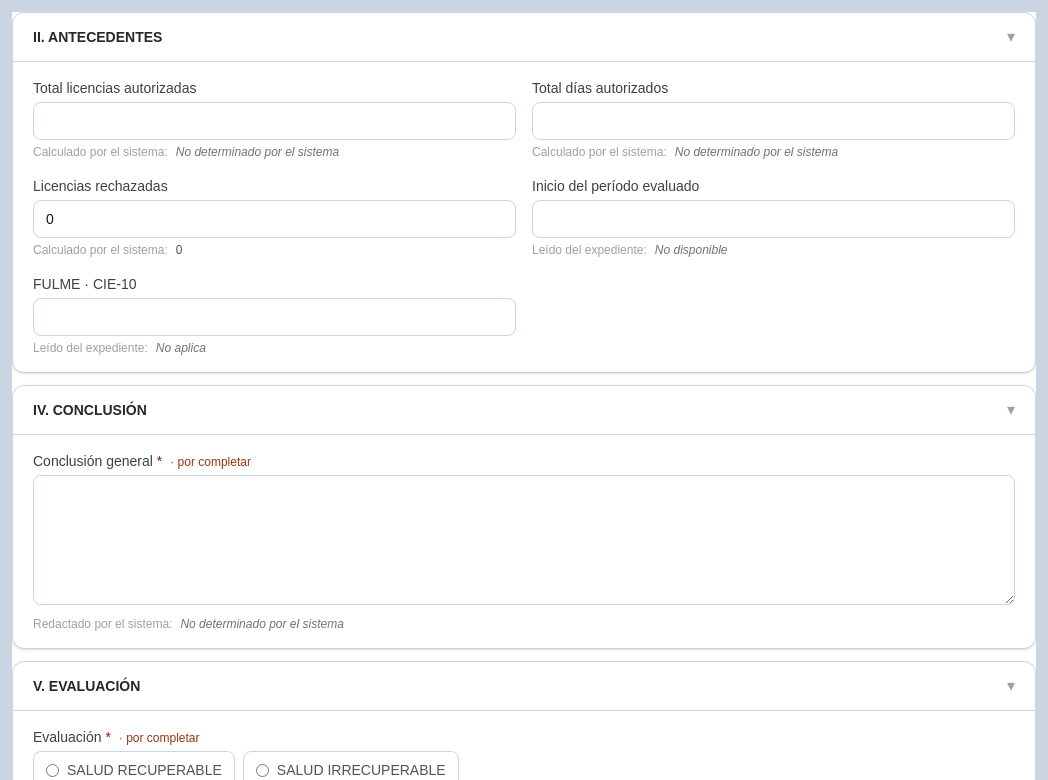
Test: DATA_UNAVAILABLE != 0 › «por completar» sólo en lo obligatorio y vacío: las cifras opcionales no parecen bloquear
Expected: the text "· por completar" is shown 2 times, top-left (170, 454), bottom-right (251, 470); top-left (119, 730), bottom-right (200, 746)
Type "Conclusión del médico." into the text box labelled "Conclusión general *".
click(524, 540); type("Conclusión del médico.")  # box top-left (33, 475), bottom-right (1015, 605)
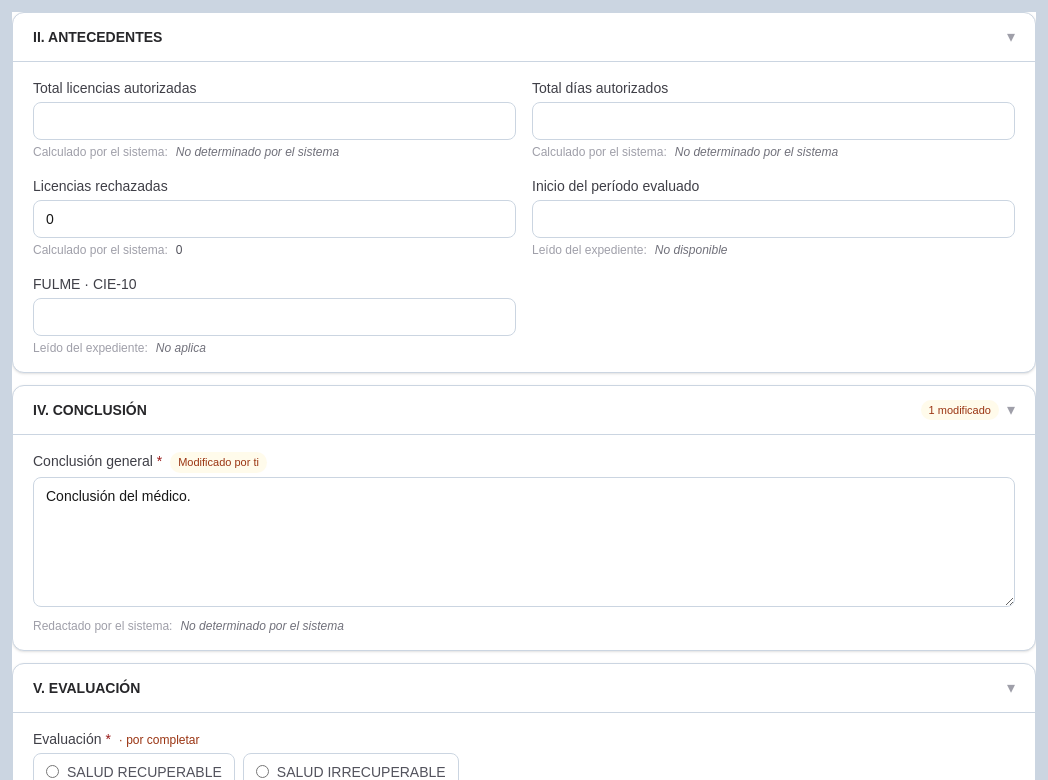
Now the text "· por completar" is shown once, box top-left (119, 732), bottom-right (200, 748)
